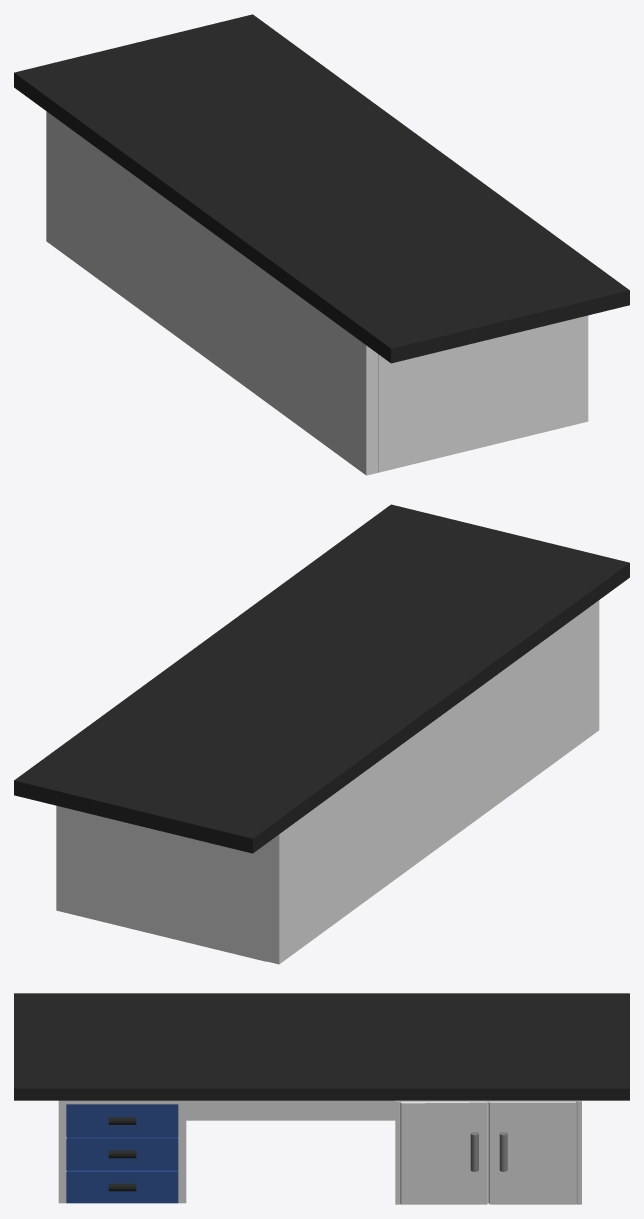
File: Lab Table by Ali12 - NyeiCAto3N.glb
3 views of the same model, one above another, from view 1: azimuth 30°, elevation 25°; view 2: azimuth 150°, elevation 25°; view 3: azimuth 270°, elevation 25° (orthographic). The views are drawn at different scales.
Visible parts, largest first — view 1: Cylinder.001; view 2: Cylinder.001; view 3: Cylinder.001.
Part boxes in pixels (bbox=[...]): Cylinder.001: bbox=[14, 14, 629, 475]; Cylinder.001: bbox=[14, 504, 629, 964]; Cylinder.001: bbox=[14, 993, 629, 1204].
Size of the model in its own units: 1.97 by 1.17 by 5.4.
